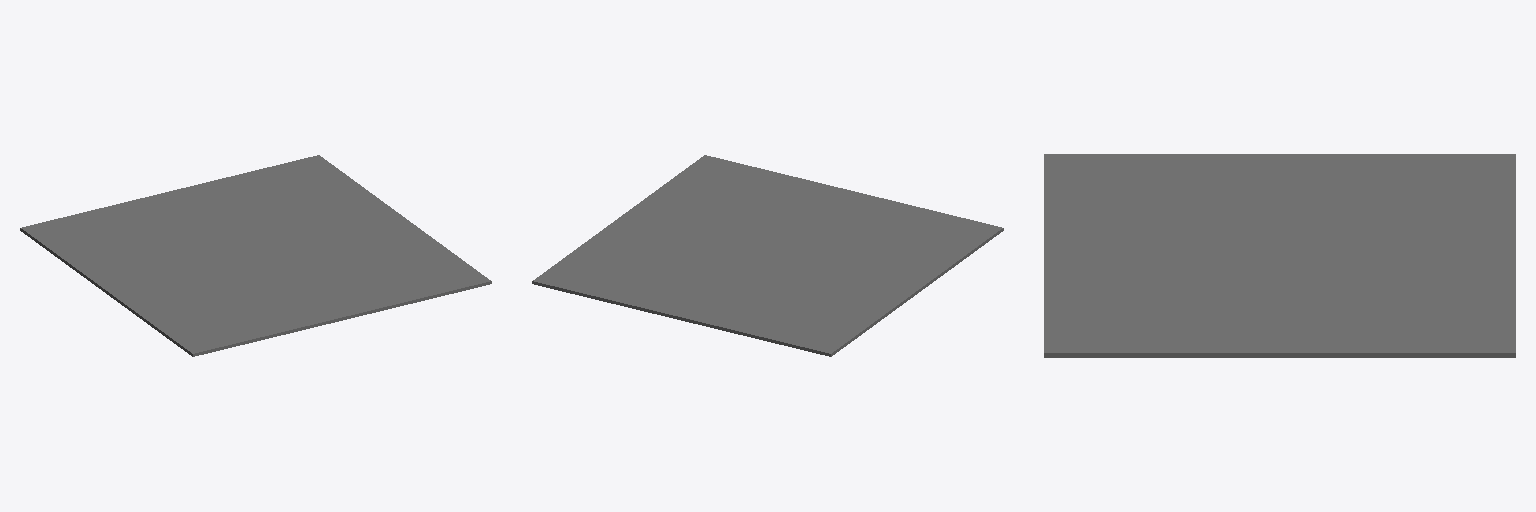
robot.urdf — arm:
<robot  name="arm">

<gazebo>
  <plugin name="gazebo_ros_control" filename="libgazebo_ros_control.so">
 <robotNamespace>/</robotNamespace>
		<robotSimType>gazebo_ros_control/DefaultRobotHWSim</robotSimType> <!--  asdf--> 
  </plugin>
</gazebo>

<!--
 Trying to get thing to not flail START
  <dynamics damping="0.0" friction="0.0"/>

  <physics type="ode">
  <gravity xyz="0 0 -9.8"/>
  <ode>
    <solver type="quick" dt="0.0001" iters="1000" sor="1.3"/>
    <constraints cfm="0.0" erp="0.1" contact_max_correcting_vel="10.0" contact_surface_layer="0.001"/>
  </ode>
</physics>
-->

 <material name="blue">
    <color rgba="0 0 0.8 1"/>
  </material>

  <material name="white">
    <color rgba="0.9 0.9 0.9 1"/>
  </material>
  <material name="pure_white">
    <color rgba="1 1 1 1"/>
  </material>
    <material name="clear_gray">
    <color rgba="0.5 0.5 0.5 1"/>
  </material>
  
  <material name="black">
    <color rgba="0.05 0.05 0.05 0.95"/>
  </material>
  

<!--PLANO BASE -->

  <link name="world"/>
   <joint name="fixed" type="fixed">
    <parent link="world"/>
    <child link="support_box"/>
  </joint>

  <link name="support_box">
  <inertial>
      <origin  xyz="0.0 0.0 0.06"  rpy="0 0 0" />
      <mass  value="0.8" />
      <inertia ixx="0.016667333" ixy="0.0" ixz="0.00"  iyy="0.016667333"  iyz="0.0" izz="0.016667333" />
    </inertial>
    <visual>
      <origin rpy="0 0 0" xyz="0 0 0.06"/>
      <geometry>
        <box size="1 1 .01"/>
        <!--making it slightly bigger in x and z direction-->
      </geometry>
      <material name="clear_gray"/>
    </visual>
    <collision>
      <origin rpy="0 0 0" xyz="0 0 0.06"/>
      <geometry>
        <box size="1 1 .01"/>
        <!--making it slightly bigger in x and z direction-->
      </geometry>
    </collision>
  </link>
  
   <!--EARMBASE-->
   <joint name="earm_joint_base" type="fixed">
    <parent link="support_box"/>
    <child link="base_link"/>
     <origin  xyz="0.05 -0.03 0.065"  rpy="0 0 0" />
  </joint>

  <link  name="base_link">
    <inertial>
      <origin  xyz="0.0 0.0 0.0"  rpy="0 0 0" />
      <mass  value="0.01" />
      <inertia ixx="0.0001" ixy="0.0" ixz="0.000"  iyy="0.0001"  iyz="0.0" izz="0.0001" />
    </inertial>
    <visual>
      <origin  xyz="0 0 0.0"  rpy="0 0 0" />
      <geometry>
        <mesh filename="package://arm/meshes/mount.stl" scale="0.001 0.001 0.001"/>
      </geometry>
       <material name="blue"/>
     </visual>
    <collision>
      <origin  xyz="0 0 0.0"  rpy="0 0 0" />
      <geometry>
        <mesh filename="package://arm/meshes/mount.stl" scale="0.001 0.001 0.001" />
      </geometry>
    </collision>
  </link>
  
  <!--PRIMERMotorBASE-->
   <joint name="motor_base" type="fixed">
    <parent link="base_link"/>
    <child link="motor_base"/>
     <origin  xyz="-0.05 0.03 0.02"  rpy="1.570796327 0 3.14159" />
  </joint>

  <link  name="motor_base">
    <inertial>
     <origin  xyz="0 0 0.0"  rpy="0 0 0" />
      <mass  value="0.01" />
      <inertia ixx="0.0001" ixy="0.0" ixz="0.000"  iyy="0.0001"  iyz="0.0" izz="0.0001" />
    </inertial>
    <visual>
      <origin  xyz="0 0 0.0"  rpy="0 0 0" />
      <geometry>     
        <mesh filename="package://arm/meshes/ax12_box.stl" scale="0.001 0.001 0.001"/>
      </geometry>    
       <material name="black"/>     
    </visual>
    <collision>
    <origin  xyz="0 0 0.0"  rpy="0 0 0" />
      <geometry>
        <mesh filename="package://arm/meshes/ax12_box.stl" scale="0.001 0.001 0.001" />
      </geometry>
    </collision>
  </link>
  
  <!--ACOPLE PLANO PRIMER JOINT-->
   <joint name="joint1" type="revolute">
    <parent link="motor_base"/>
    <child link="acople_plano"/>
     <origin  xyz="-0.0 0.021 0.0"  rpy="1.570795 0 0" />
     <axis  xyz="0 0 -1" />
    <limit  lower="-2.6179938" upper="2.6179938" effort="40"  velocity="3.57" />
  </joint>
  
 <link  name="acople_plano">
    <inertial>
     <origin  xyz="0 0 0.0"  rpy="0 0 0" />
      <mass  value="0.01" />
      <inertia ixx="0.0001" ixy="0.0" ixz="0.000"  iyy="0.0001"  iyz="0.0" izz="0.0001" />
    </inertial>
    <visual>
      <origin  xyz="0 0 0.0"  rpy="0 0 0" />
      <geometry>     
        <mesh filename="package://arm/meshes/F3.stl" scale="0.001 0.001 0.001"/>
      </geometry>   
       <material name="white"/>
    </visual>
    <collision>
    <origin  xyz="0 0 0.0"  rpy="0 0 0" />
      <geometry>
        <mesh filename="package://arm/meshes/F3.stl" scale="0.001 0.001 0.001" />
      </geometry>
    </collision>
  </link>
  
    <!--SEGUNDOMotor-->
   <joint name="motor_2" type="fixed">
    <parent link="acople_plano"/>
    <child link="motor2"/>
     <origin  xyz="-0.0 0.0 -0.041"  rpy="3.14159 0 3.14159 " />
  </joint>

  <link  name="motor2">
    <inertial>
     <origin  xyz="0 0 0.0"  rpy="0 0 0" />
      <mass  value="0.01" />
      <inertia ixx="0.0001" ixy="0.0" ixz="0.000"  iyy="0.0001"  iyz="0.0" izz="0.0001" />
    </inertial>
    <visual>
      <origin  xyz="0 0 0.0"  rpy="0 0 0" />
      <geometry>     
        <mesh filename="package://arm/meshes/ax12_box.stl" scale="0.001 0.001 0.001"/>
      </geometry>         
       <material name="black"/>
    </visual>
    <collision>
    <origin  xyz="0 0 0.0"  rpy="0 0 0" />
      <geometry>
        <mesh filename="package://arm/meshes/ax12_box.stl" scale="0.001 0.001 0.001" />
      </geometry>
    </collision>
  </link>
  
  
   <!--ACOPLE BRACKET LARGO SEGUNDA JOINT-->
   <joint name="joint2" type="revolute">
    <parent link="motor2"/>
    <child link="acople_bracket_l"/>
     <origin  xyz="-0.0 0.0 0.0"  rpy="0 0 0" />
     <axis  xyz="0 1 0" />
    <limit  lower="-2.3" upper="2.3" effort="60"  velocity="1.4" />
  </joint>
  
 <link  name="acople_bracket_l">
    <inertial>
     <origin  xyz="0 0 0.0"  rpy="0 0 0" />
      <mass  value="0.01" />
      <inertia ixx="0.0001" ixy="0.0" ixz="0.000"  iyy="0.0001"  iyz="0.0" izz="0.0001" />
    </inertial>
    <visual>
      <origin  xyz="0 0 0.0"  rpy="0 0 0" />
      <geometry>     
        <mesh filename="package://arm/meshes/F4.stl" scale="0.001 0.001 0.001"/>
      </geometry>   
       <material name="white"/>
    </visual>
    <collision>
    <origin  xyz="0 0 0.0"  rpy="0 0 0" />
      <geometry>
        <mesh filename="package://arm/meshes/F4.stl" scale="0.001 0.001 0.001" />
      </geometry>
    </collision>
  </link>
  
      <!--TERCERMotor-->
   <joint name="acople_m3" type="fixed">
    <parent link="acople_bracket_l"/>
    <child link="acople_plano_m3"/>
     <origin  xyz="-0.0 0.0 0.052"  rpy="3.14159 0 3.14159 " />
  </joint>
  
  
    
 <link  name="acople_plano_m3">
    <inertial>
     <origin  xyz="0 0 0.0"  rpy="0 0 0" />
      <mass  value="0.01" />
      <inertia ixx="0.0001" ixy="0.0" ixz="0.000"  iyy="0.0001"  iyz="0.0" izz="0.0001" />
    </inertial>
    <visual>
      <origin  xyz="0 0 0.0"  rpy="0 0 0" />
      <geometry>     
        <mesh filename="package://arm/meshes/F3.stl" scale="0.001 0.001 0.001"/>
      </geometry>   
       <material name="white"/>
    </visual>
    <collision>
    <origin  xyz="0 0 0.0"  rpy="0 0 0" />
      <geometry>
        <mesh filename="package://arm/meshes/F3.stl" scale="0.001 0.001 0.001" />
      </geometry>
    </collision>
  </link>
  
     <joint name="motor3" type="fixed">
    <parent link="acople_plano_m3"/>
    <child link="motor3"/>
     <origin  xyz="-0.0 0.0 -0.041"  rpy="3.14159 0 3.14159 " />
  </joint>  
  
  

  <link  name="motor3">
    <inertial>
     <origin  xyz="0 0 0.0"  rpy="0 0 0" />
      <mass  value="0.01" />
      <inertia ixx="0.0001" ixy="0.0" ixz="0.000"  iyy="0.0001"  iyz="0.0" izz="0.0001" />
    </inertial>
    <visual>
      <origin  xyz="0 0 0.0"  rpy="0 0 0" />
      <geometry>     
        <mesh filename="package://arm/meshes/ax12_box.stl" scale="0.001 0.001 0.001"/>
      </geometry>         
      <material name="black"/>
    </visual>
    <collision>
    <origin  xyz="0 0 0.0"  rpy="0 0 0" />
      <geometry>
        <mesh filename="package://arm/meshes/ax12_box.stl" scale="0.001 0.001 0.001" />
      </geometry>
    </collision>
  </link>
  
    <joint name="joint3" type="revolute">
    <parent link="motor3"/>
    <child link="acople_bracket_c1"/>
     <origin  xyz="-0.0 0.0 0.0"  rpy="0 0 0" />
     <axis  xyz="0 1 0" />
    <limit  lower="-1.8" upper="1.8" effort="40"  velocity="4.57" />
  </joint>
  
 <link  name="acople_bracket_c1">
    <inertial>
     <origin  xyz="0 0 0.0"  rpy="0 0 0" />
      <mass  value="0.01" />
      <inertia ixx="0.0001" ixy="0.0" ixz="0.000"  iyy="0.0001"  iyz="0.0" izz="0.0001" />
    </inertial>
    <visual>
      <origin  xyz="0 0 0.0"  rpy="0 0 0" />
      <geometry>     
        <mesh filename="package://arm/meshes/F2.stl" scale="0.001 0.001 0.001"/>
      </geometry>   
       <material name="white"/>
    </visual>
    <collision>
    <origin  xyz="0 0 0.0"  rpy="0 0 0" />
      <geometry>
        <mesh filename="package://arm/meshes/F2.stl" scale="0.001 0.001 0.001" />
      </geometry>
    </collision>
  </link>
  
  
  <joint name="joint4" type="revolute">
    <parent link="acople_bracket_c1"/>
    <child link="motor4"/>
     <origin  xyz="-0.0 0.0 0.047"  rpy="-1.570795 0 3.14" />
      <axis  xyz="0 -1 0" />
    <limit  lower="-2.6179938" upper="2.6179938" effort="40"  velocity="4.57" />
  </joint>    
  

  <link  name="motor4">
      <origin  xyz="0 0 0.0"  rpy="0 0 0" />
    <inertial>
     <origin  xyz="0 0 0.0"  rpy="0 0 0" />
      <mass  value="0.01" />
      <inertia ixx="0.0001" ixy="0.0" ixz="0.000"  iyy="0.0001"  iyz="0.0" izz="0.0001" />
    </inertial>
    <visual>
      <origin  xyz="0 0 0.0"  rpy="0 0 0" />
      <geometry>     
        <mesh filename="package://arm/meshes/ax12_box.stl" scale="0.001 0.001 0.001"/>
      </geometry>         
      <material name="black"/>
    </visual>
    <collision>
    <origin  xyz="0 0 0.0"  rpy="0 0 0" />
      <geometry>
        <mesh filename="package://arm/meshes/ax12_box.stl" scale="0.001 0.001 0.001" />
      </geometry>
    </collision>
  </link>
  
  <joint name="acople_m4" type="fixed">
    <parent link="motor4"/>
    <child link="acople_plano_m4"/>
     <origin  xyz="0.019 0 -0.015"  rpy="0 1.57 0 " />
  </joint>  

  <link  name="acople_plano_m4">
    <inertial>
     <origin  xyz="0 0 0.0"  rpy="0 0 0" />
      <mass  value="0.01" />
      <inertia ixx="0.0001" ixy="0.0" ixz="0.000"  iyy="0.0001"  iyz="0.0" izz="0.0001" />
    </inertial>
    <visual>
      <origin  xyz="0 0 0.0"  rpy="0 0 0" />
      <geometry>     
        <mesh filename="package://arm/meshes/F3.stl" scale="0.001 0.001 0.001"/>
      </geometry>         
      <material name="white"/>
    </visual>
    <collision>
    <origin  xyz="0 0 0.0"  rpy="0 0 0" />
      <geometry>
        <mesh filename="package://arm/meshes/F3.stl" scale="0.001 0.001 0.001" />
      </geometry>
    </collision>
  </link>
    <joint name="acople_m41" type="fixed">
    <parent link="acople_plano_m4"/>
    <child link="acople_plano_m41"/>
     <origin  xyz="0.00 0 -0.0"  rpy="0 3.14159 1.57" />
  </joint>  

  <link  name="acople_plano_m41">
    <inertial>
     <origin  xyz="0 0 0.0"  rpy="0 0 0" />
      <mass  value="0.01" />
      <inertia ixx="0.0001" ixy="0.0" ixz="0.000"  iyy="0.0001"  iyz="0.0" izz="0.0001" />
    </inertial>
    <visual>
      <origin  xyz="0 0 0.0"  rpy="0 0 0" />
      <geometry>     
        <mesh filename="package://arm/meshes/F3.stl" scale="0.001 0.001 0.001"/>
      </geometry>         
      <material name="white"/>
    </visual>
    <collision>
    <origin  xyz="0 0 0.0"  rpy="0 0 0" />
      <geometry>
        <mesh filename="package://arm/meshes/F3.stl" scale="0.001 0.001 0.001" />
      </geometry>
    </collision>
  </link>
 
    <joint name="motor5" type="fixed">
    <parent link="acople_plano_m41"/>
    <child link="motor5"/>
     <origin  xyz="0.0228 0.0 -0.019"  rpy="0 1.57 0" />
  </joint>    
  

  <link  name="motor5">
      <origin  xyz="0 0 0.0"  rpy="0 0 0" />
    <inertial>
     <origin  xyz="0 0 0.0"  rpy="0 0 0" />
      <mass  value="0.01" />
      <inertia ixx="0.0001" ixy="0.0" ixz="0.000"  iyy="0.0001"  iyz="0.0" izz="0.0001" />
    </inertial>
    <visual>
      <origin  xyz="0 0 0.0"  rpy="0 0 0" />
      <geometry>     
        <mesh filename="package://arm/meshes/ax12_box.stl" scale="0.001 0.001 0.001"/>
      </geometry>         
      <material name="black"/>
    </visual>
    <collision>
    <origin  xyz="0 0 0.0"  rpy="0 0 0" />
      <geometry>
        <mesh filename="package://arm/meshes/ax12_box.stl" scale="0.001 0.001 0.001" />
      </geometry>
    </collision>
  </link>
  
     <joint name="joint5" type="revolute">
    <parent link="motor5"/>
    <child link="acople_bracket_c2"/>
     <origin  xyz="-0.0 0.0 0.0"  rpy="0 0 0" />
     <axis  xyz="0 1 0" />
    <limit  lower="-0.8" upper="1.7" effort="40"  velocity="4.57" />
  </joint>
  
 <link  name="acople_bracket_c2">
    <inertial>
     <origin  xyz="0 0 0.0"  rpy="0 0 0" />
      <mass  value="0.01" />
      <inertia ixx="0.0001" ixy="0.0" ixz="0.000"  iyy="0.0001"  iyz="0.0" izz="0.0001" />
    </inertial>
    <visual>
      <origin  xyz="0 0 0.0"  rpy="0 0 0" />
      <geometry>     
        <mesh filename="package://arm/meshes/F2.stl" scale="0.001 0.001 0.001"/>
      </geometry>   
       <material name="white"/>
    </visual>
    <collision>
    <origin  xyz="0 0 0.0"  rpy="0 0 0" />
      <geometry>
        <mesh filename="package://arm/meshes/F2.stl" scale="0.001 0.001 0.001" />
      </geometry>
    </collision>
  </link>
  
    <joint name="joint6" type="revolute">
    <parent link="acople_bracket_c2"/>
    <child link="motor6"/>
     <origin  xyz="-0.0 0.0 0.047"  rpy="-1.570795 0 3.14" />
      <axis  xyz="0 -1 0" />
    <limit  lower="-2.6179938" upper="2.6179938" effort="40"  velocity="4.57" />
  </joint>    
  

  <link  name="motor6">
      <origin  xyz="0 0 0.0"  rpy="0 0 0" />
    <inertial>
     <origin  xyz="0 0 0.0"  rpy="0 0 0" />
      <mass  value="0.01" />
      <inertia ixx="0.0001" ixy="0.0" ixz="0.000"  iyy="0.0001"  iyz="0.0" izz="0.0001" />
    </inertial>
    <visual>
      <origin  xyz="0 0 0.0"  rpy="0 0 0" />
      <geometry>     
        <mesh filename="package://arm/meshes/ax12_box.stl" scale="0.001 0.001 0.001"/>
      </geometry>         
      <material name="black"/>
    </visual>
    <collision>
    <origin  xyz="0 0 0.0"  rpy="0 0 0" />
      <geometry>
        <mesh filename="package://arm/meshes/ax12_box.stl" scale="0.001 0.001 0.001" />
      </geometry>
    </collision>
  </link>
  
  
  <transmission name="tran1">
    <type>transmission_interface/SimpleTransmission</type>
    <joint name="joint1">
     <hardwareInterface>PositionJointInterface</hardwareInterface>
     </joint>
    <actuator name="motor1">     
      <mechanicalReduction>1</mechanicalReduction>
    </actuator>
  </transmission>
  
   <transmission name="tran2">
    <type>transmission_interface/SimpleTransmission</type>
    <joint name="joint2">
     <hardwareInterface>PositionJointInterface</hardwareInterface>
     </joint>
    <actuator name="motor2">     
      <mechanicalReduction>1</mechanicalReduction>
    </actuator>
  </transmission>
  
   <transmission name="tran3">
    <type>transmission_interface/SimpleTransmission</type>
    <joint name="joint3">
     <hardwareInterface>PositionJointInterface</hardwareInterface>
     </joint>
    <actuator name="motor3">     
      <mechanicalReduction>1</mechanicalReduction>
    </actuator>
  </transmission>
  
   <transmission name="tran4">
    <type>transmission_interface/SimpleTransmission</type>
    <joint name="joint4">
     <hardwareInterface>PositionJointInterface</hardwareInterface>
     </joint>
    <actuator name="motor4">     
      <mechanicalReduction>1</mechanicalReduction>
    </actuator>
  </transmission>
  
   <transmission name="tran5">
    <type>transmission_interface/SimpleTransmission</type>
    <joint name="joint5">
     <hardwareInterface>PositionJointInterface</hardwareInterface>
     </joint>
    <actuator name="motor5">     
      <mechanicalReduction>1</mechanicalReduction>
    </actuator>
  </transmission>
  
    <transmission name="tran6">
    <type>transmission_interface/SimpleTransmission</type>
    <joint name="joint6">
     <hardwareInterface>PositionJointInterface</hardwareInterface>
     </joint>
    <actuator name="motor6">     
      <mechanicalReduction>1</mechanicalReduction>
    </actuator>
  </transmission>
  
  <gazebo reference="motor_base">
      <gravity>true</gravity>
       <self_collide>true</self_collide>
      <material value="Gazebo/Black" />
    </gazebo>
    <gazebo reference="acople_plano">
      <gravity>true</gravity>
       <self_collide>true</self_collide>
      <material value="Gazebo/White" />
    </gazebo>
    <gazebo reference="motor2">
      <gravity>true</gravity>
       <self_collide>true</self_collide>
      <material value="Gazebo/Black" />
    </gazebo>
    <gazebo reference="acople_bracket_l">
      <gravity>true</gravity>
       <self_collide>true</self_collide>
      <material value="Gazebo/White" />
    </gazebo>
    <gazebo reference="acople_plano">
      <gravity>true</gravity>
       <self_collide>true</self_collide>
      <material value="Gazebo/White" />
    </gazebo>
   <gazebo reference="motor3">
      <gravity>true</gravity>
       <self_collide>true</self_collide>
      <material value="Gazebo/Black" />
    </gazebo>
    <gazebo reference="acople_bracket_c1">
      <gravity>true</gravity>
       <self_collide>true</self_collide>
      <material value="Gazebo/White" />
    </gazebo>
   <gazebo reference="motor4">
      <gravity>true</gravity>
       <self_collide>true</self_collide>
      <material value="Gazebo/Black" />
    </gazebo>
    <gazebo reference="acople_plano_m4">
      <gravity>true</gravity>
       <self_collide>true</self_collide>
      <material value="Gazebo/White" />
    </gazebo>
    <gazebo reference="acople_plano_m41">
      <gravity>true</gravity>
       <self_collide>true</self_collide>
      <material value="Gazebo/White" />
    </gazebo>
    <gazebo reference="motor5">
      <gravity>true</gravity>
       <self_collide>true</self_collide>
      <material value="Gazebo/Black" />
    </gazebo>
    <gazebo reference="acople_bracket_c2">
      <gravity>true</gravity>
       <self_collide>true</self_collide>
      <material value="Gazebo/White" />
    </gazebo>
    <gazebo reference="motor6">
      <gravity>true</gravity>
       <self_collide>true</self_collide>
      <material value="Gazebo/Black" />
    </gazebo>
   
</robot>

--- Facts derived from the render (not from the file) ---
The picture shows the robot from 3 angles, left to right: view 1: azimuth 30°, elevation 25°; view 2: azimuth 150°, elevation 25°; view 3: azimuth 270°, elevation 25°; orthographic projection.
Model arm with 16 links and 15 joints (6 revolute, 9 fixed), rooted at world, posed every joint at zero.
Links seen in each view (by area): view 1: support_box; view 2: support_box; view 3: support_box.
Link boxes in pixels (x1=…): support_box: x1=20, y1=155, x2=491, y2=356; support_box: x1=532, y1=155, x2=1003, y2=356; support_box: x1=1044, y1=154, x2=1515, y2=357.
Size in the robot's own frame: 1 by 1 by 0.01 metres.
0 mesh visuals loaded from 5 distinct referenced files (none loaded); not drawn: 14 (reference not matched to a file when rendering).